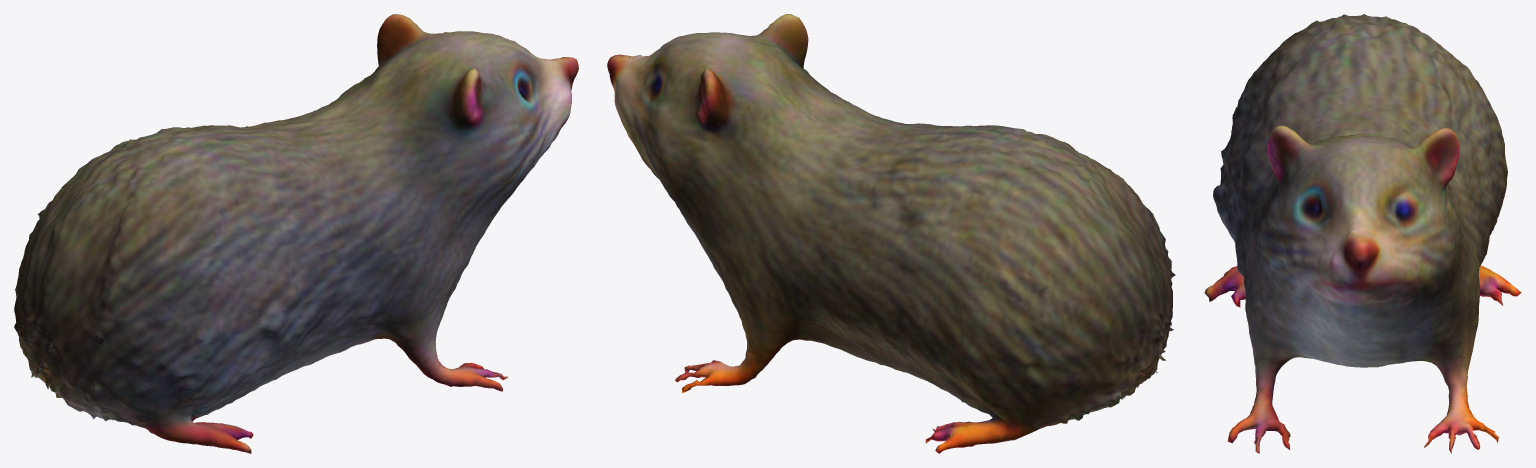
File: mole.glb
The picture shows the model from 3 angles, left to right: view 1: azimuth 30°, elevation 25°; view 2: azimuth 150°, elevation 25°; view 3: azimuth 270°, elevation 25°; orthographic projection. The views are drawn at different scales.
Visible parts, largest first — view 1: Mesh1; view 2: Mesh1; view 3: Mesh1.
Part boxes in pixels (x1,y1,x2,y2): Mesh1: [14, 14, 578, 453]; Mesh1: [607, 14, 1175, 453]; Mesh1: [1204, 14, 1521, 453].
Bounding box in the file's own units: 1.2 × 0.6306 × 0.5707.
1 material, 1 textured.
